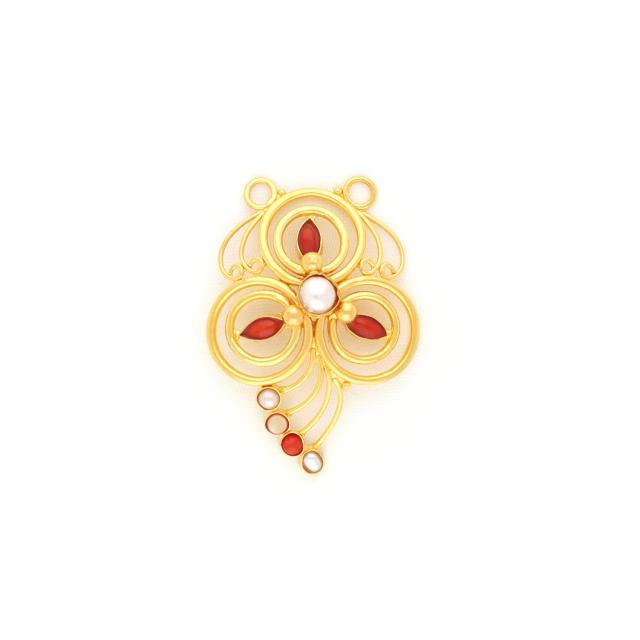missing gem: (299, 276, 336, 314)
